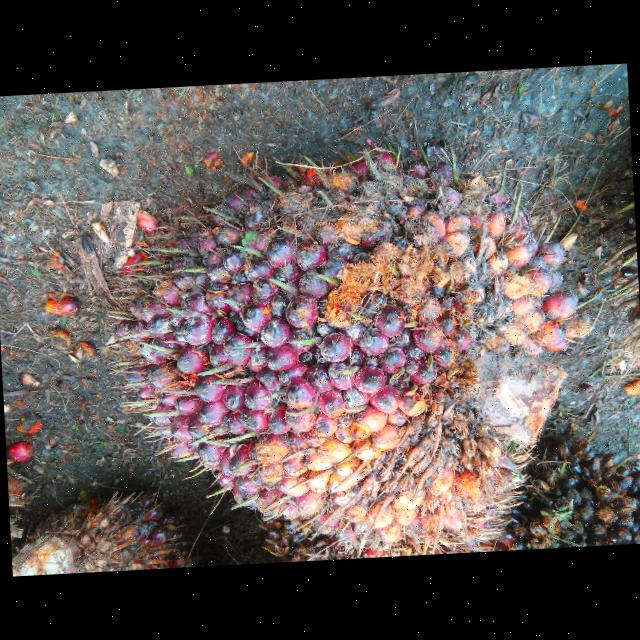Unripe: (125, 155, 574, 546)
